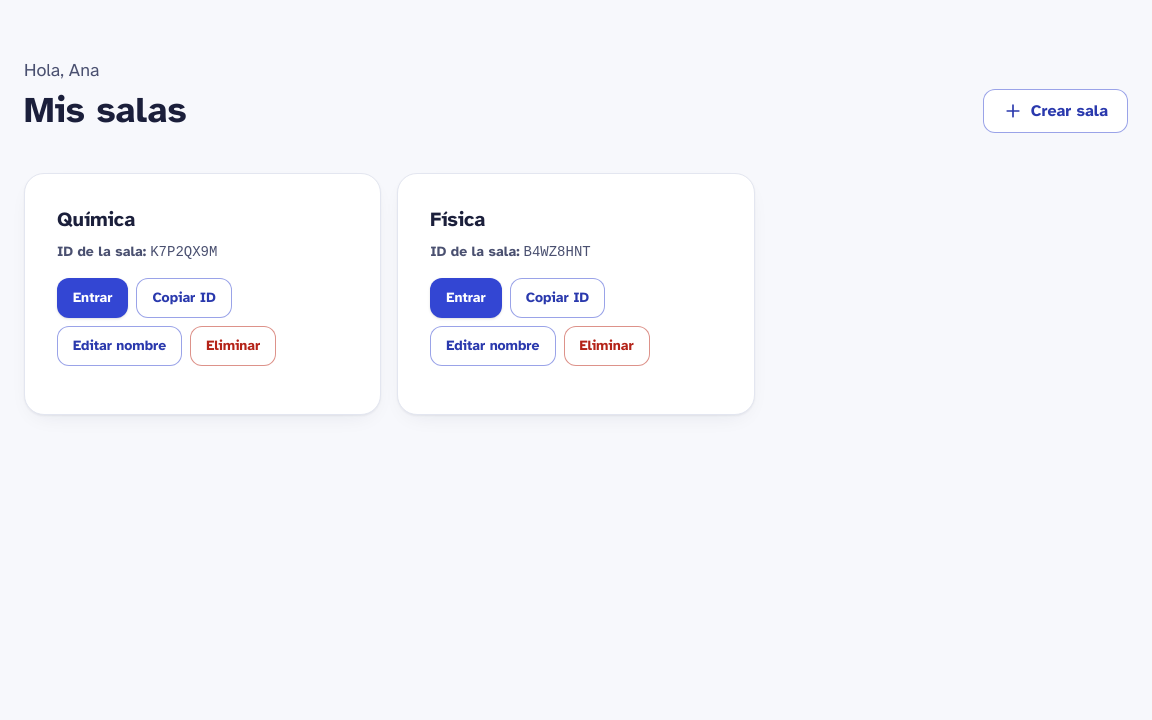
Scenario: el anfitrión elimina una sala desde el panel con confirmación y desaparece de la lista
What coordinates should you click on to do the following:
click the button with aria-label "Eliminar la sala Química"
I would click on:
 (233, 346)
Its box is x1=190 y1=326 x2=276 y2=366.
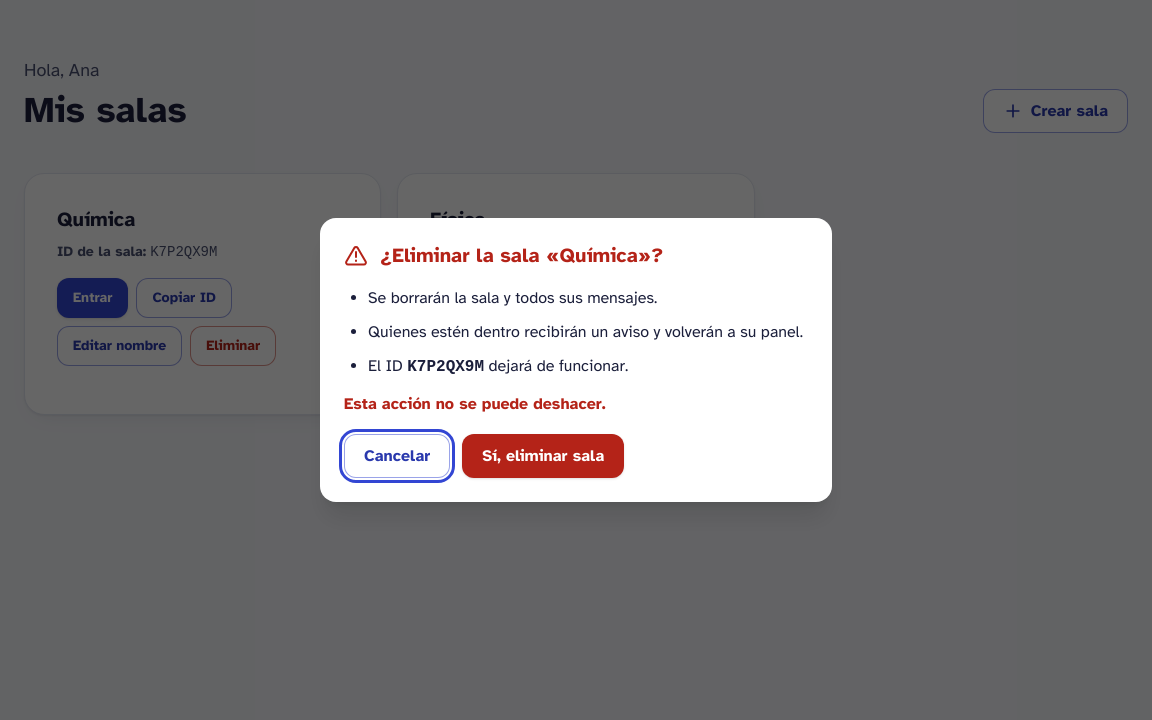
Check: the text "Esta acción no se puede deshacer." is shown, box x1=344 y1=394 x2=606 y2=414
What coordinates should you click on to do the following:
click the button "Sí, eliminar sala"
I would click on:
 (543, 456)
Its box is x1=462 y1=434 x2=624 y2=478.
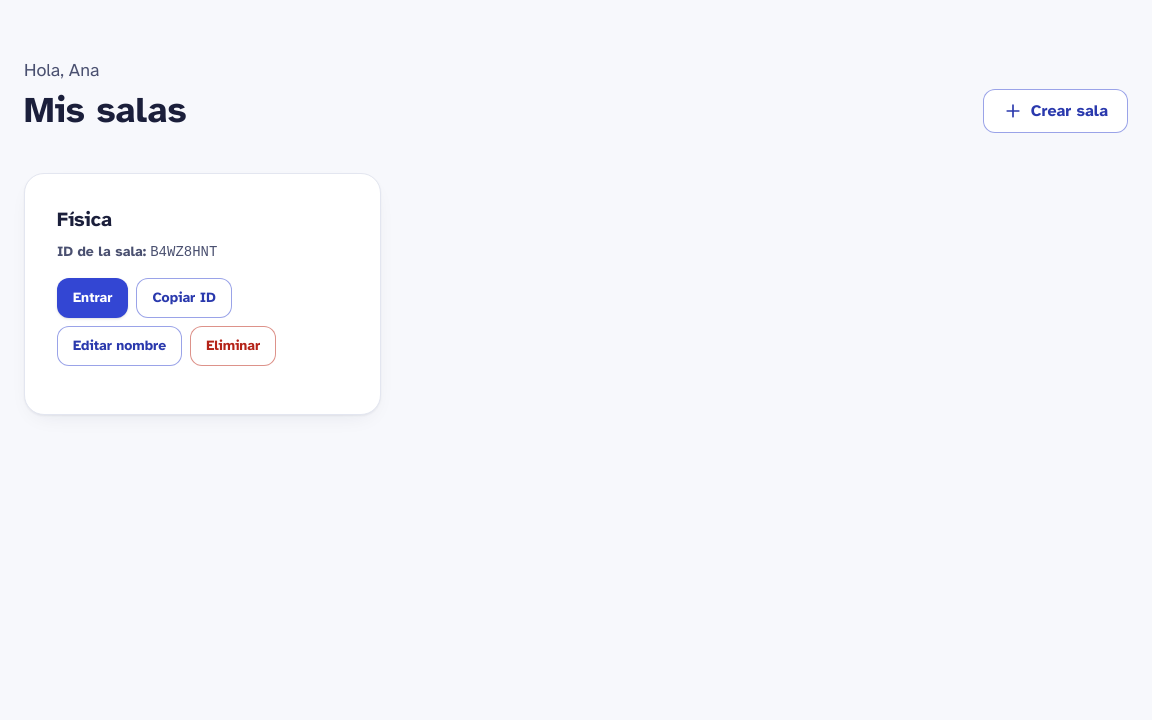
Check: the heading "Física" is shown, box x1=57 y1=207 x2=112 y2=232
Check: the heading "Química" is gone
